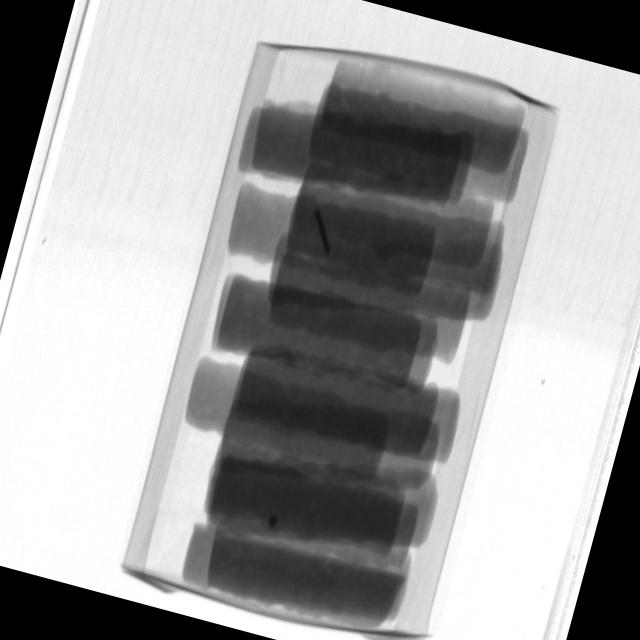ym: (305, 210, 341, 257), (269, 514, 281, 530)
